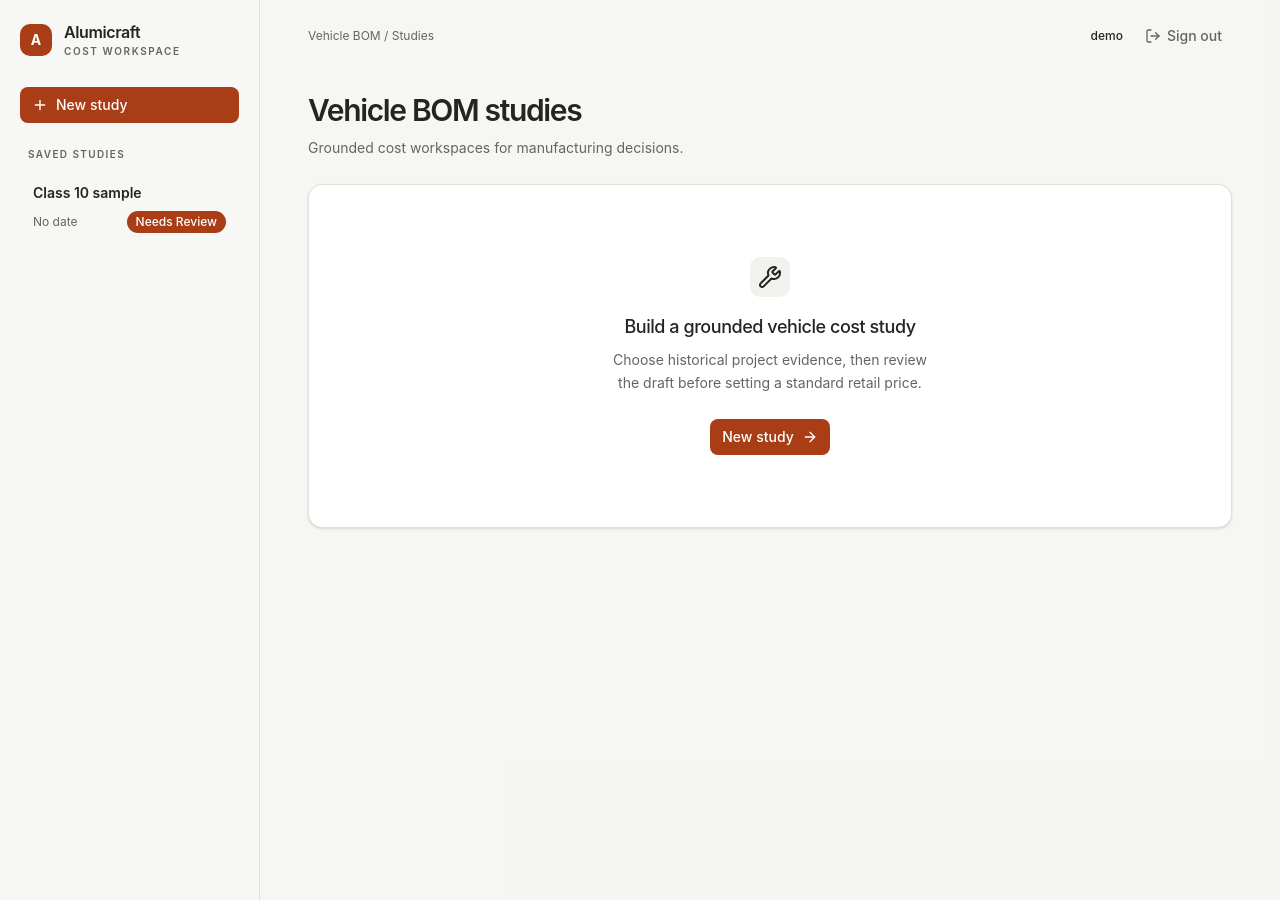
Test: standalone review workflow › keeps manual review rows disabled before a draft exists
The width and height of the screenshot is (1280, 900).
Click the button "New study" below "Alumicraft": click(130, 105) [20,87,239,123]
(page scrolled)
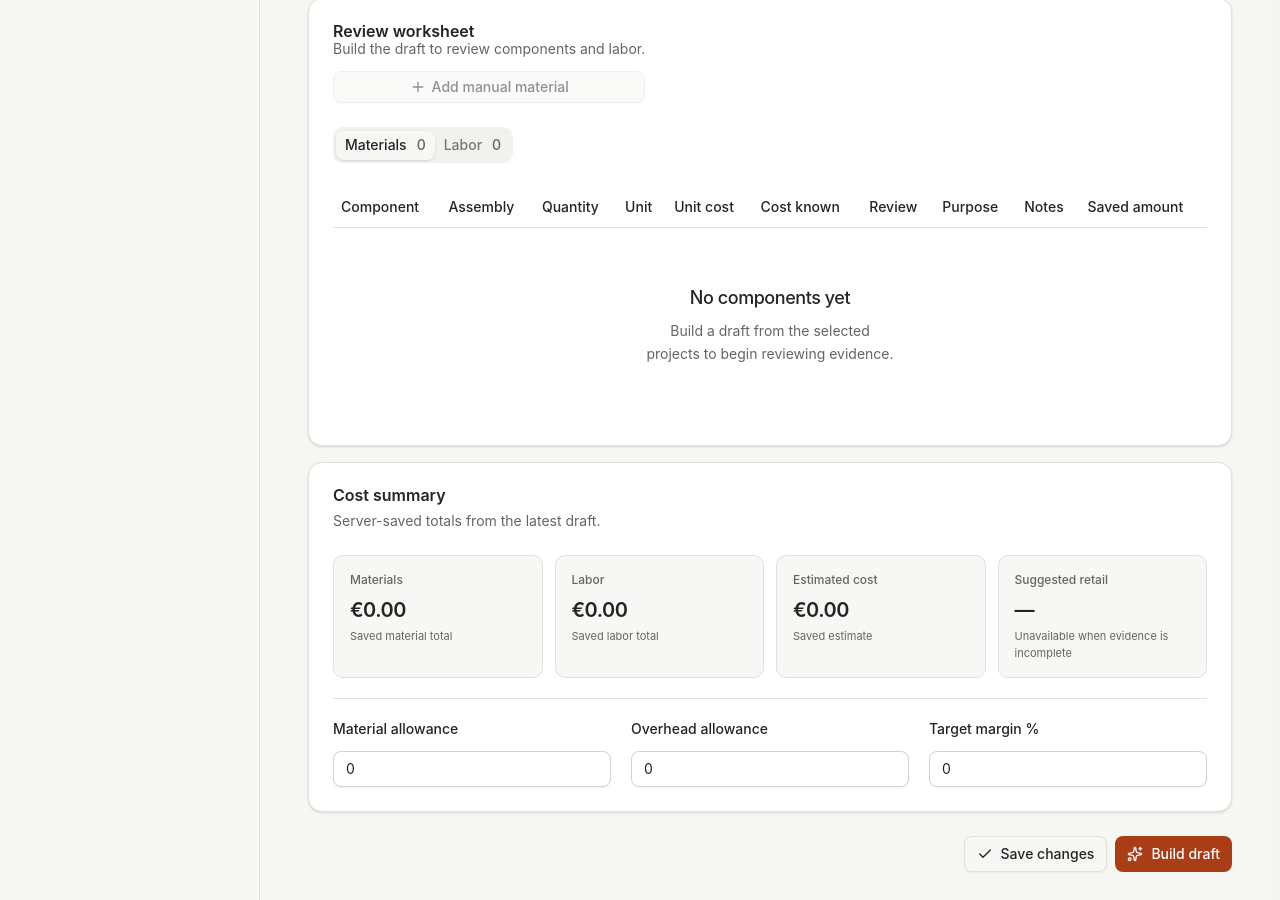
Expected: the button "Add manual material" is disabled, [333,71,645,103]
Expected: the button "Build draft" is enabled, [1115,836,1232,872]
